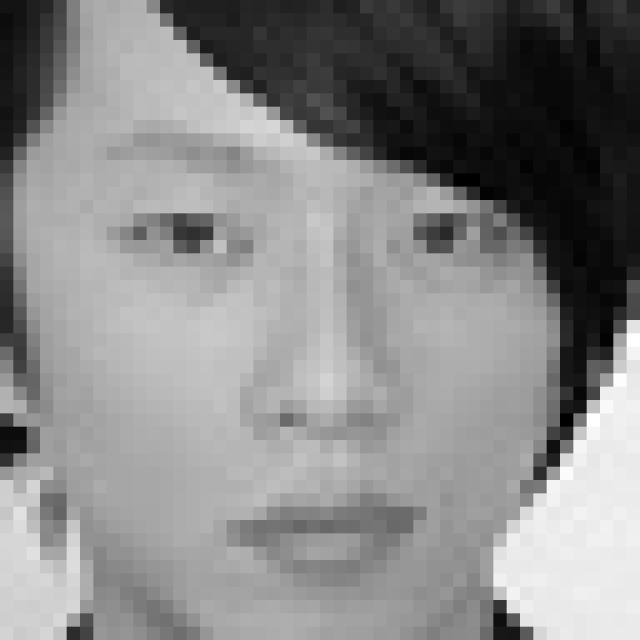neutral: (107, 121, 531, 585)
